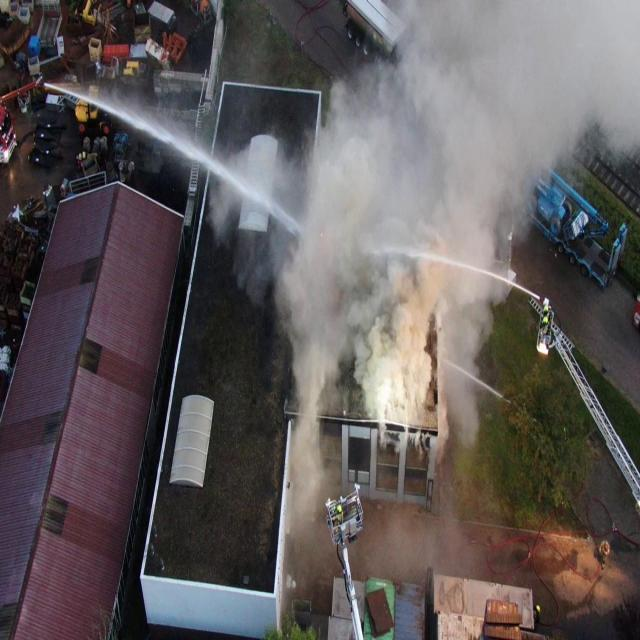Smoke: (208, 0, 640, 593)
